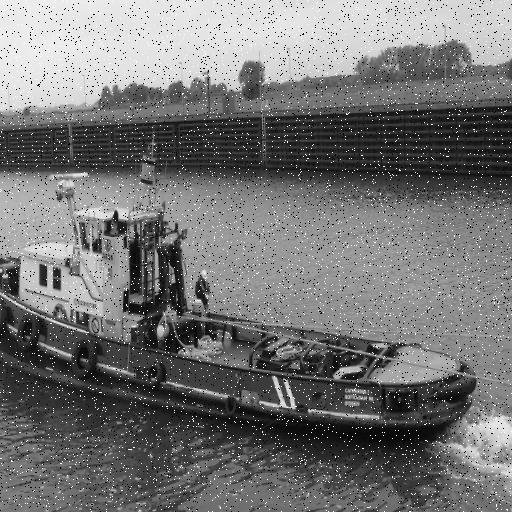tugboat: (1, 133, 480, 452)
